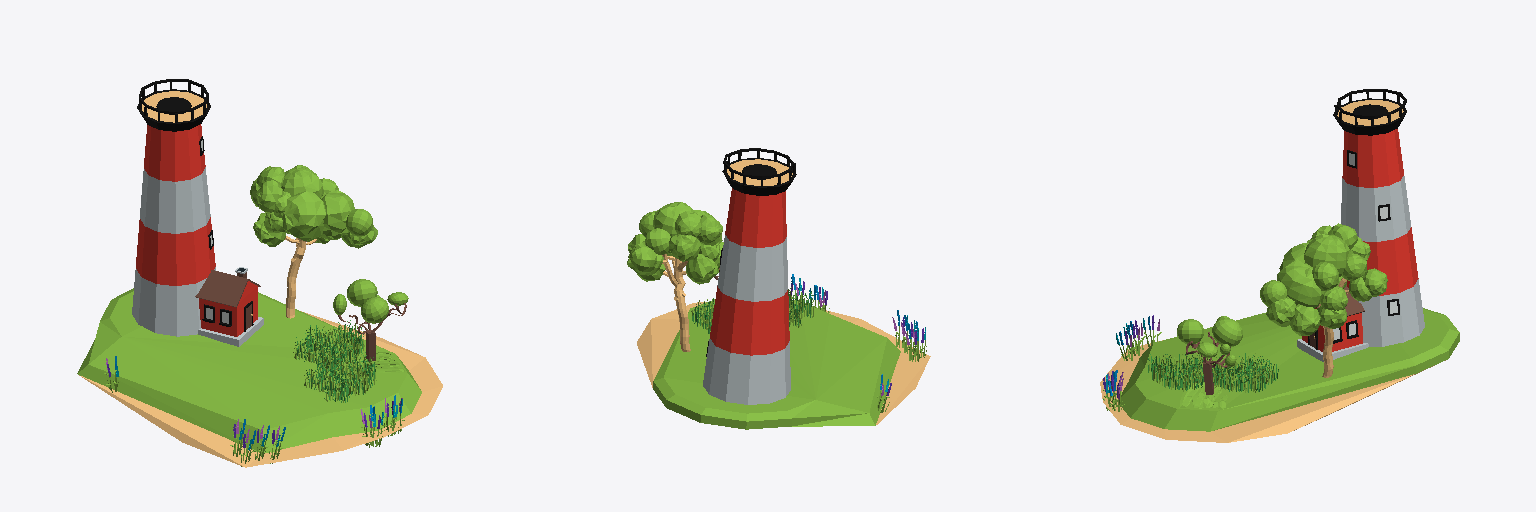
3 views of the same model, side by side, from view 1: azimuth 30°, elevation 25°; view 2: azimuth 150°, elevation 25°; view 3: azimuth 270°, elevation 25° (orthographic).
Visible parts, largest first — view 1: group[number redacted], group[number redacted], group[number redacted], group[number redacted], group[number redacted], group[number redacted], group[number redacted], group[number redacted], group[number redacted], group[number redacted]; view 2: group[number redacted], group[number redacted], group[number redacted], group[number redacted], group[number redacted]; view 3: group[number redacted], group[number redacted], group[number redacted], group[number redacted], group[number redacted], group[number redacted], group[number redacted], group[number redacted].
Part boxes in pixels (x1,y1,x2,y2): group[number redacted]: (77,288,442,467); group[number redacted]: (132,124,215,336); group[number redacted]: (250,165,377,318); group[number redacted]: (333,279,408,372); group[number redacted]: (293,320,364,371); group[number redacted]: (304,352,376,402); group[number redacted]: (137,89,210,131); group[number redacted]: (199,281,257,336); group[number redacted]: (195,270,247,307); group[number redacted]: (198,317,263,346); group[number redacted]: (637,299,930,429); group[number redacted]: (703,188,790,404); group[number redacted]: (627,202,722,351); group[number redacted]: (722,158,796,195); group[number redacted]: (788,287,813,327); group[number redacted]: (1100,308,1459,442); group[number redacted]: (1341,129,1424,346); group[number redacted]: (1260,223,1387,377); group[number redacted]: (1177,316,1242,408); group[number redacted]: (1212,353,1278,392); group[number redacted]: (1333,98,1406,135); group[number redacted]: (1148,353,1217,391); group[number redacted]: (1302,308,1362,351).
Size of the model in its own units: 0.3021 by 0.2789 by 0.3289.